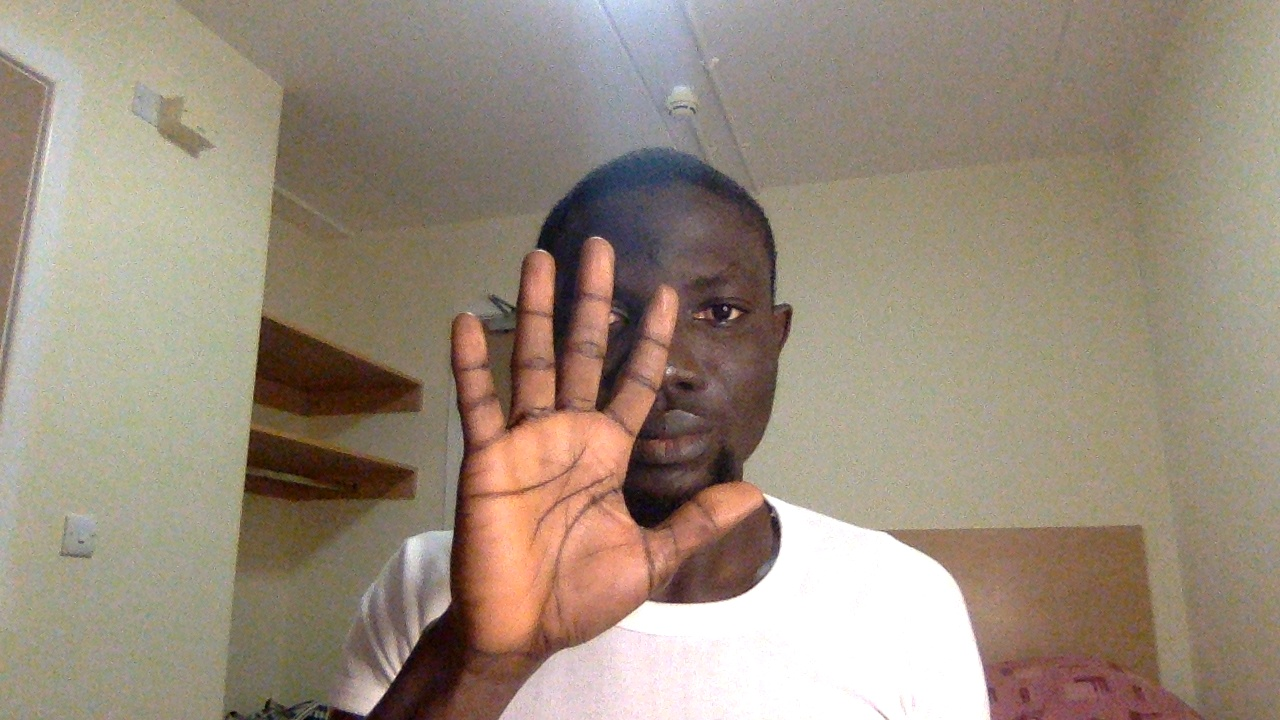Hello: (398, 219, 786, 711)
